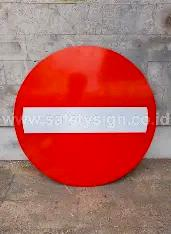Stop: (14, 46, 155, 186)
